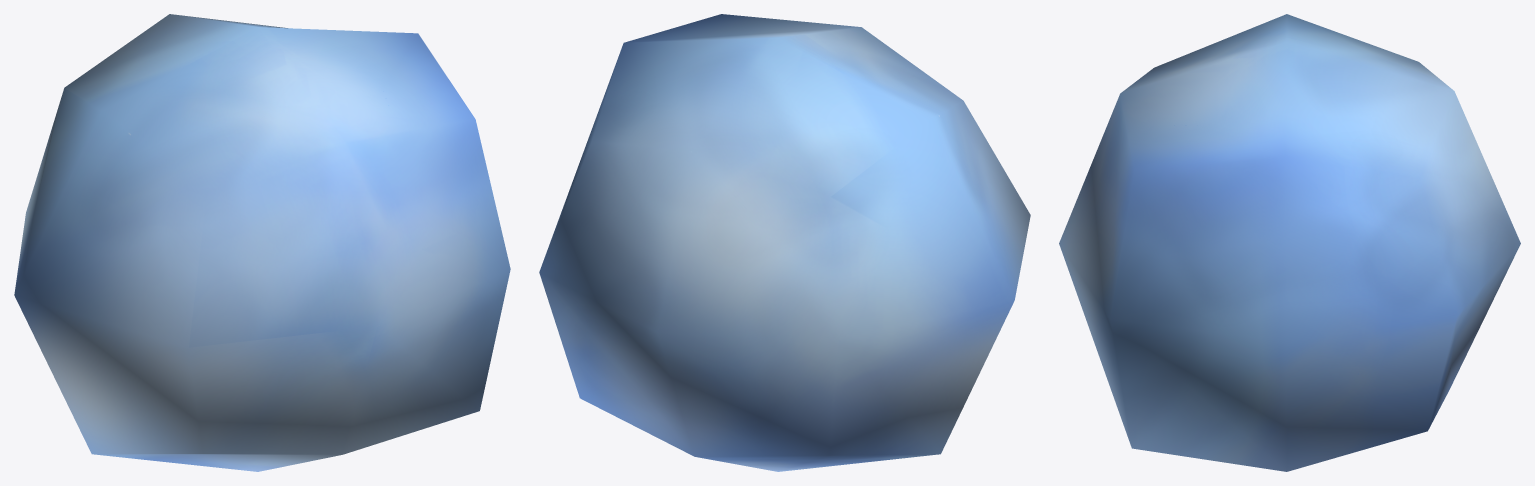
The model's file is snowball.fbx.
3 renders of one model, left to right at view 1: azimuth 30°, elevation 25°; view 2: azimuth 150°, elevation 25°; view 3: azimuth 270°, elevation 25°, orthographic. The views are drawn at different scales.
Parts seen in each view (by area): view 1: Cube; view 2: Cube; view 3: Cube.
Part boxes in pixels (x1,y1,x2,y2): Cube: (14, 14, 510, 471); Cube: (539, 14, 1030, 471); Cube: (1059, 14, 1520, 471).
Bounding box in the file's own units: 48.29 × 52.18 × 48.79.
Materials: 1 (1 with a texture image).
